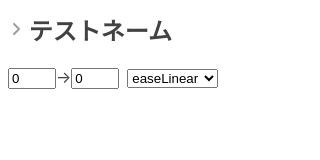
Scenario: Header › Angle icon › show Option, then show Down icon
Click the heading "テストネーム" at (89, 31), box [6,17,172,46]
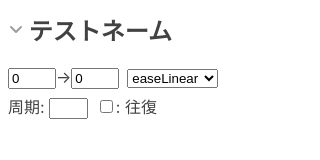
Now the picture with test id "config-header-icon-down" is shown, box [6,21,26,37]
